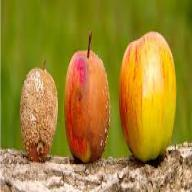apple: (120, 33, 178, 158), (64, 51, 110, 162), (20, 66, 57, 160)
